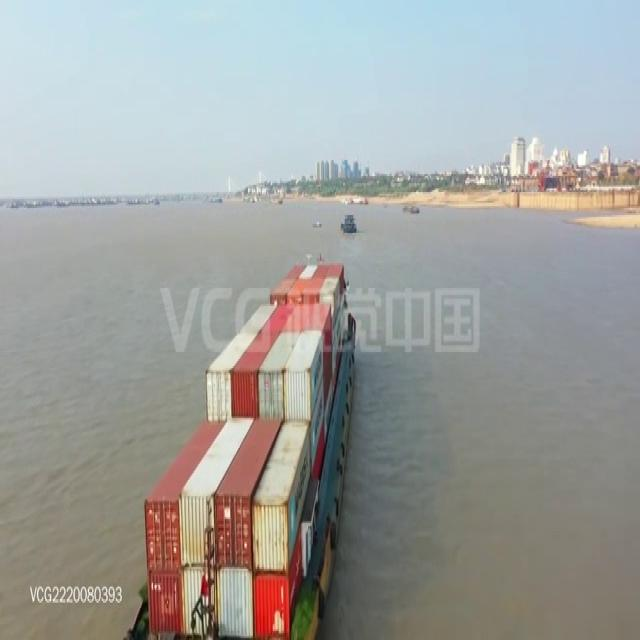cargoship: (134, 264, 360, 640)
